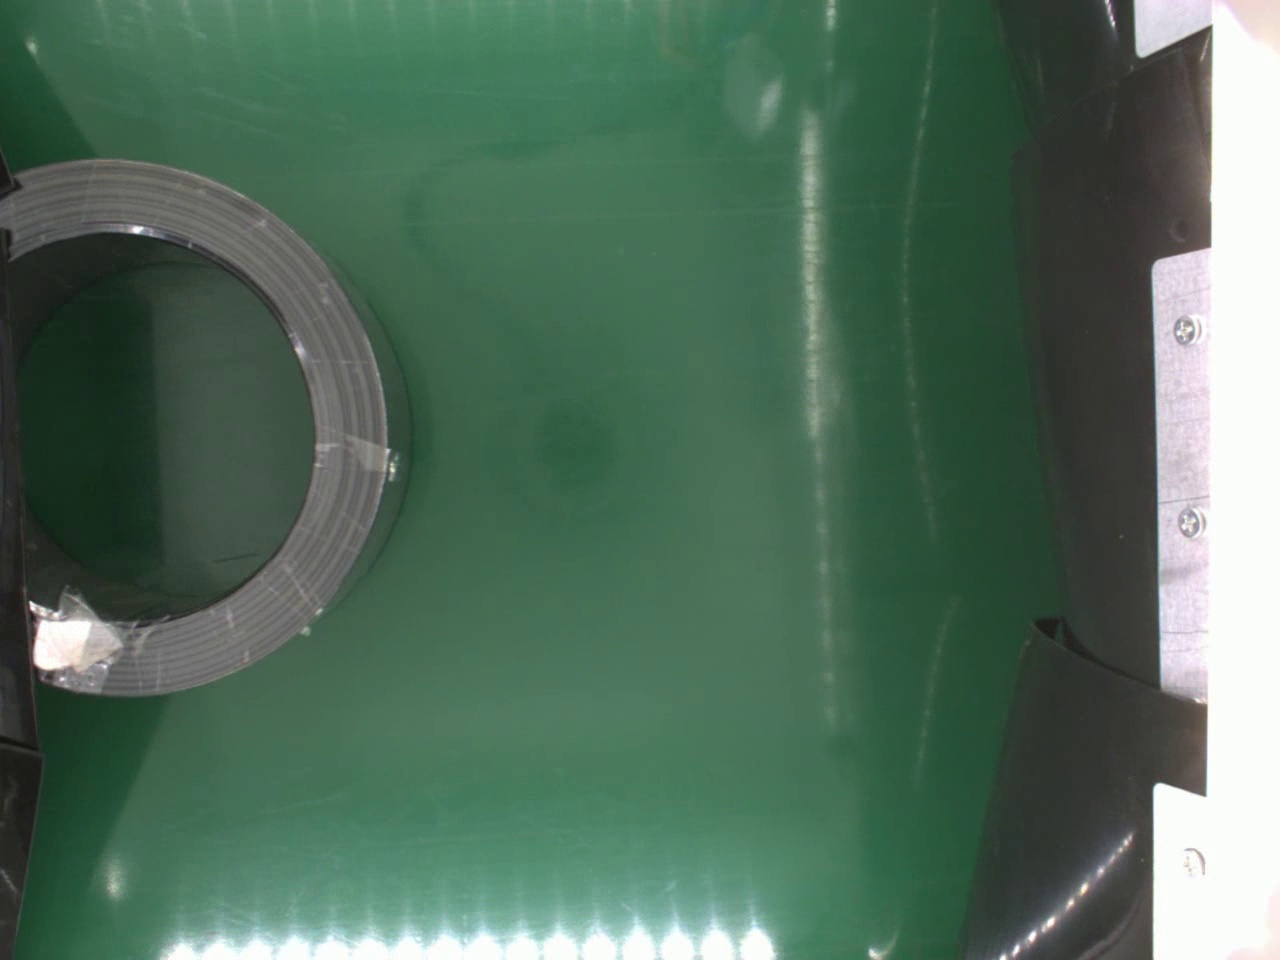black: (0, 160, 415, 703)
